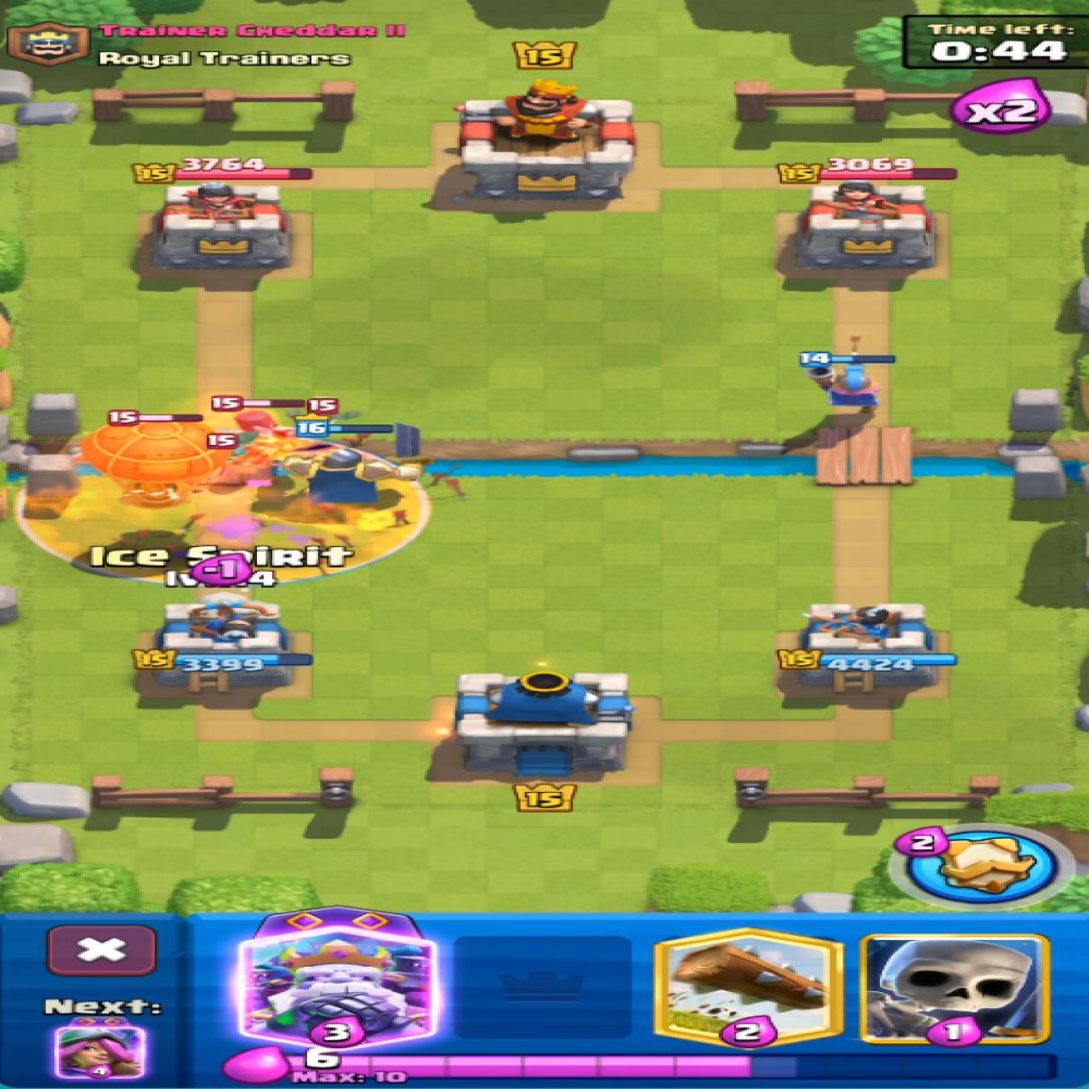Enemy-Balloon: (83, 410, 235, 507)
Enemy-Bat: (287, 397, 359, 418)
Enemy-KingTower: (457, 79, 634, 198)
Enemy-NightWitch: (211, 395, 307, 471)
Enemy-PrincessTower: (150, 183, 287, 273), (799, 182, 934, 269)
